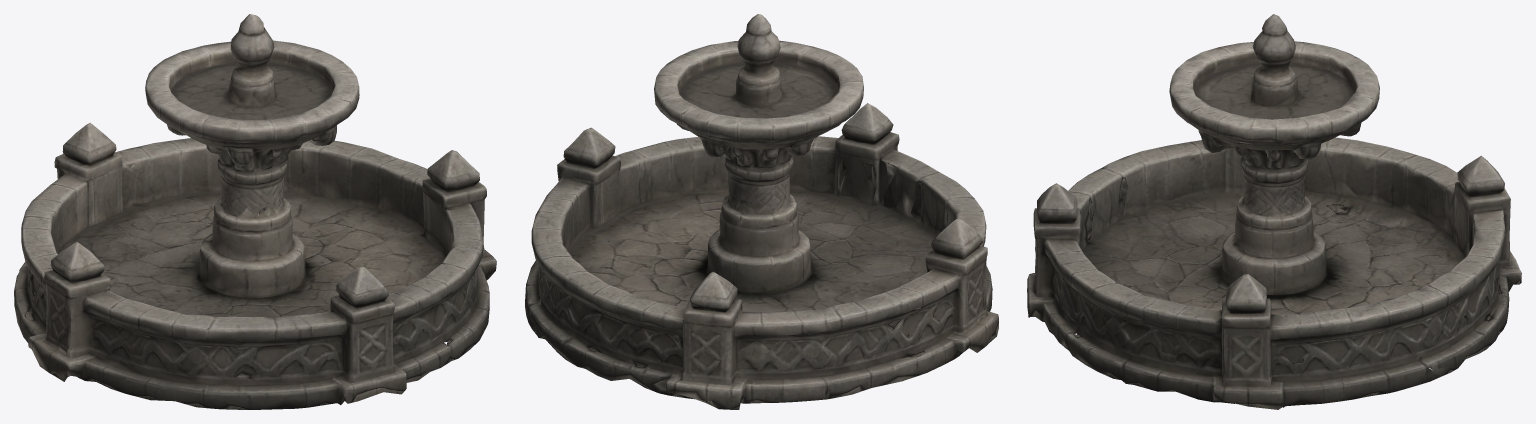
File: fountain_dry.glb
The picture shows the model from 3 angles, left to right: view 1: azimuth 30°, elevation 25°; view 2: azimuth 150°, elevation 25°; view 3: azimuth 270°, elevation 25°; orthographic projection.
Visible parts, largest first — view 1: geometry_0; view 2: geometry_0; view 3: geometry_0.
Boxes of the visible parts, x1=… form: geometry_0: x1=14, y1=14, x2=496, y2=409; geometry_0: x1=525, y1=14, x2=998, y2=409; geometry_0: x1=1027, y1=14, x2=1521, y2=409.
Size of the model in its own units: 0.9992 by 0.6506 by 0.9965.
Materials: 1 (1 with a texture image).
